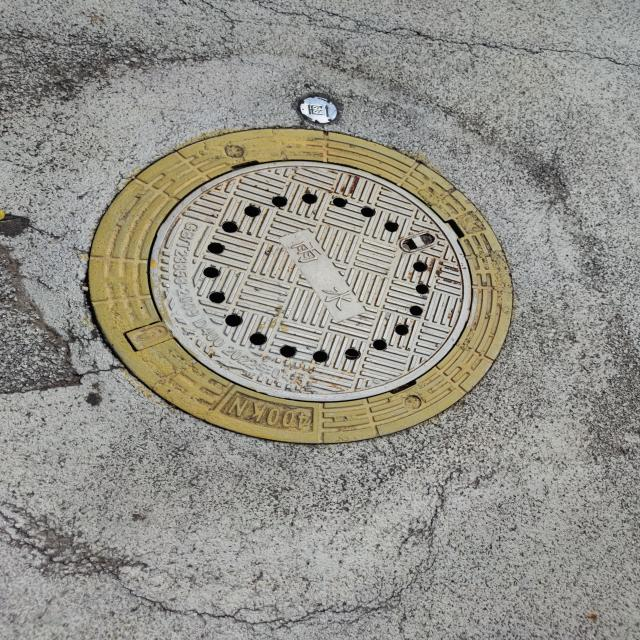Good: (78, 120, 524, 447)
